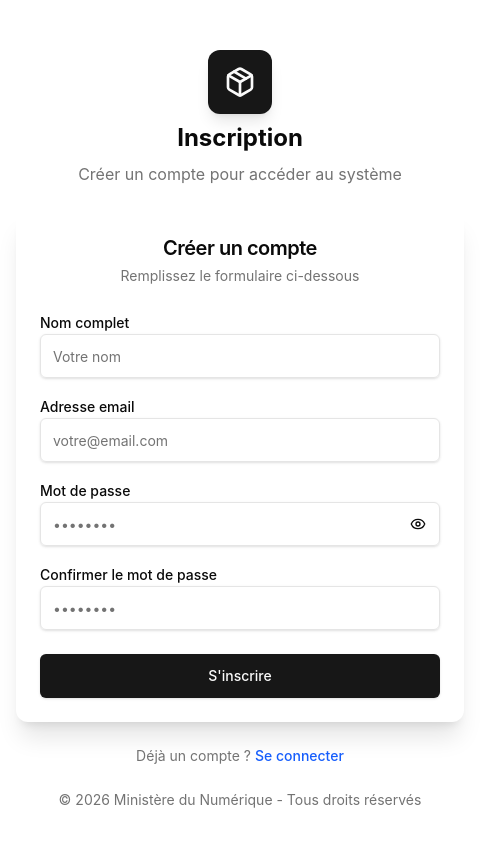
it: Register Component › shows validation error for mismatched passwords
Type "Jean Dupont" into the field labelled "Nom complet" at (240, 356), box [40,334,440,378]
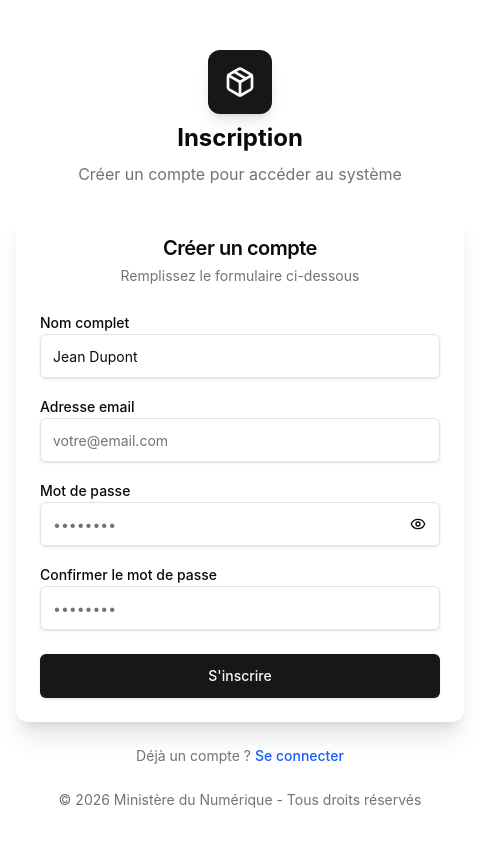
Type "jean@example.com" into the field labelled "Adresse email" at (240, 440), box [40,418,440,462]
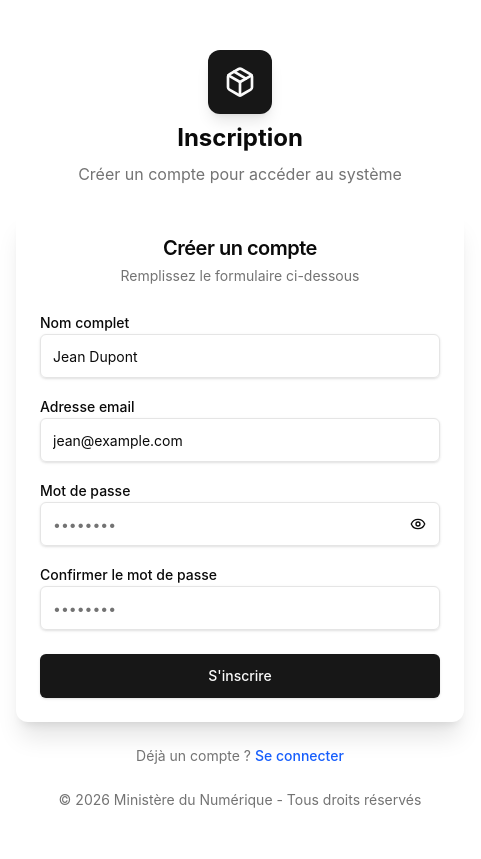
Type "StrongP@ssw0rd" into the password field labelled "Mot de passe" at (240, 524), box [40,502,440,546]
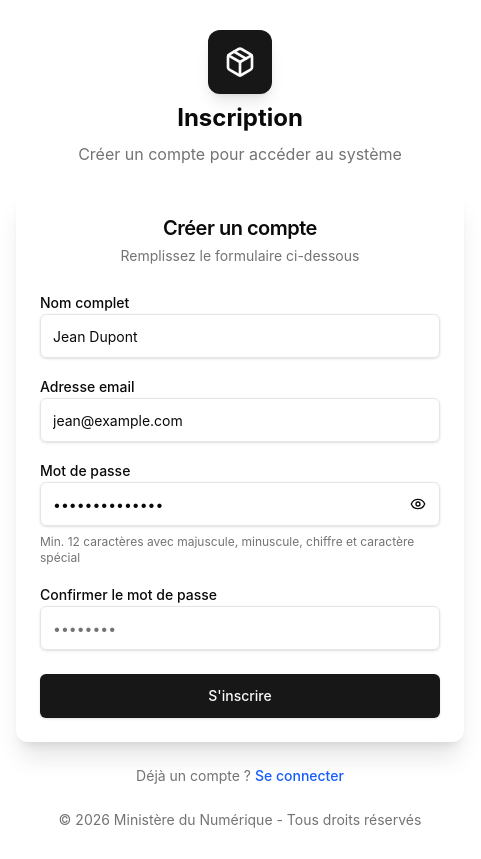
Type "DifferentP@ssw0rd" into the password field labelled "Confirmer le mot de passe" at (240, 628), box [40,606,440,650]
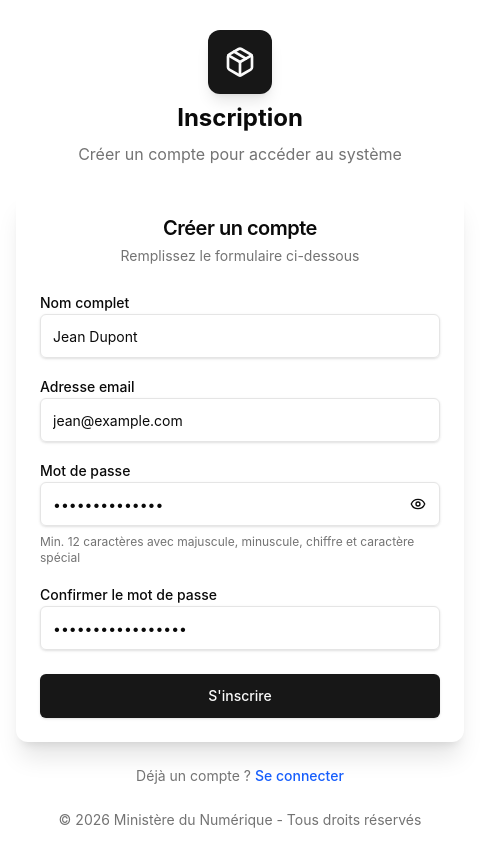
Submit the form named "S'inscrire", box [16,290,464,742]
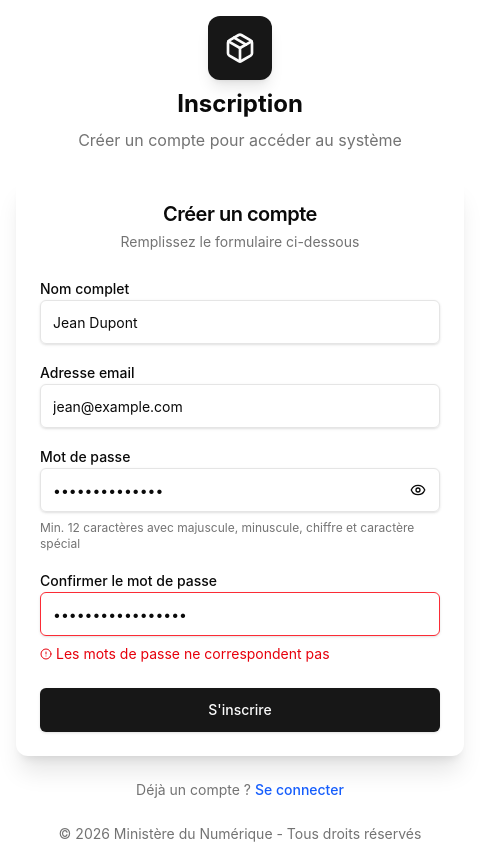
Expected: the text "Les mots de passe ne correspondent pas" is shown, [40,645,330,662]
